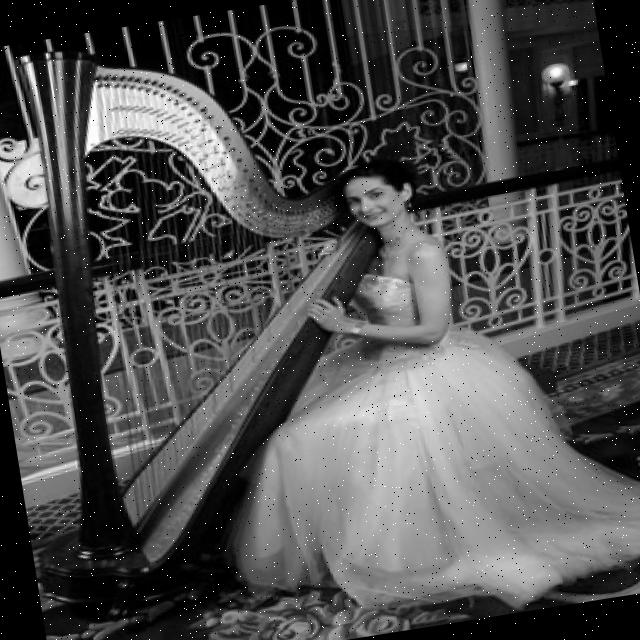harp: (0, 2, 431, 623)
